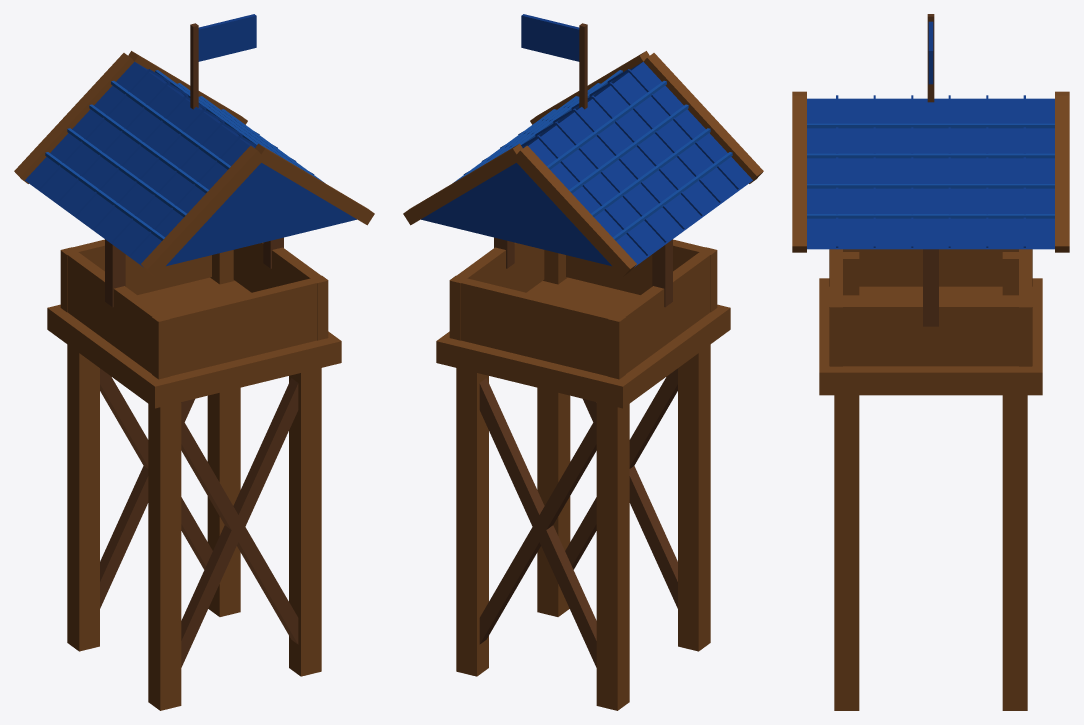
Rendered from watchtower.glb.
3 renders of one model, left to right at view 1: azimuth 30°, elevation 25°; view 2: azimuth 150°, elevation 25°; view 3: azimuth 270°, elevation 25°, orthographic. The views are drawn at different scales.
Parts seen in each view (by area): view 1: Tower leg, Flag, Roof post, Tile course.005; view 2: Tower leg, Flag, Roof post, Tile course.005; view 3: Tower leg, Flag, Tile course.005, Roof post.
Part boxes in pixels (x1,y1,x2,y2): Tower leg: [14, 51, 374, 710]; Flag: [25, 14, 356, 267]; Roof post: [100, 23, 298, 667]; Tile course.005: [45, 70, 324, 240]; Tower leg: [403, 51, 763, 710]; Flag: [421, 14, 752, 267]; Roof post: [479, 23, 677, 667]; Tile course.005: [453, 70, 732, 240]; Tower leg: [792, 91, 1069, 710]; Flag: [807, 21, 1054, 249]; Tile course.005: [807, 123, 1054, 218]; Roof post: [923, 14, 938, 326].
Size of the model in its own units: 2.07 by 5.5 by 2.11.
